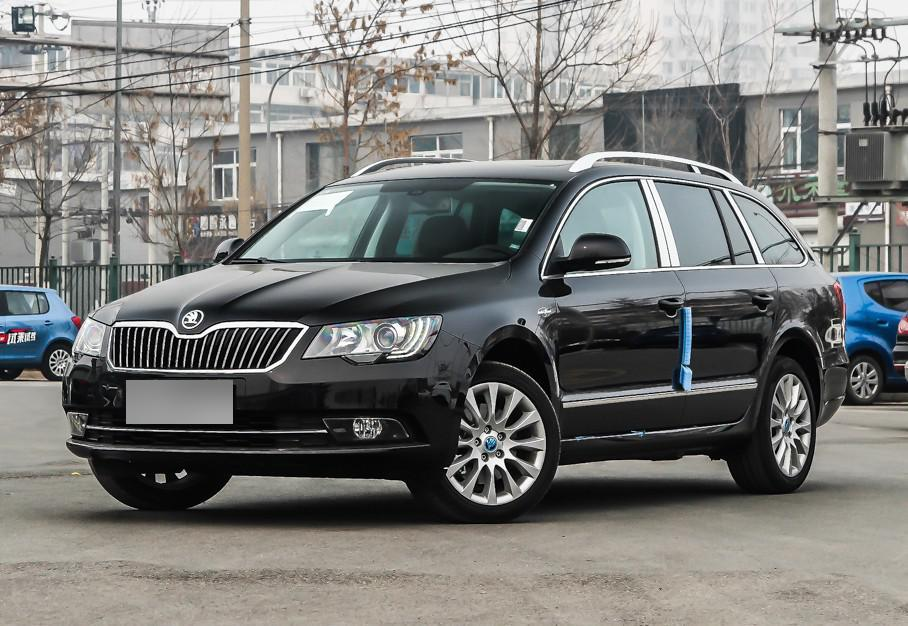Wagon: (63, 152, 849, 525)
